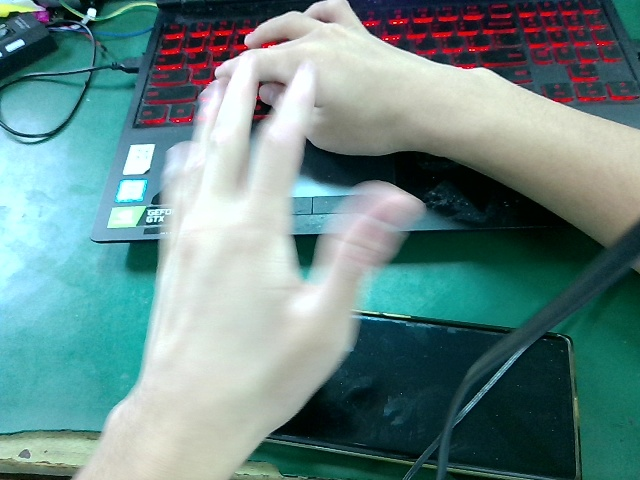paper: (131, 50, 424, 460)
